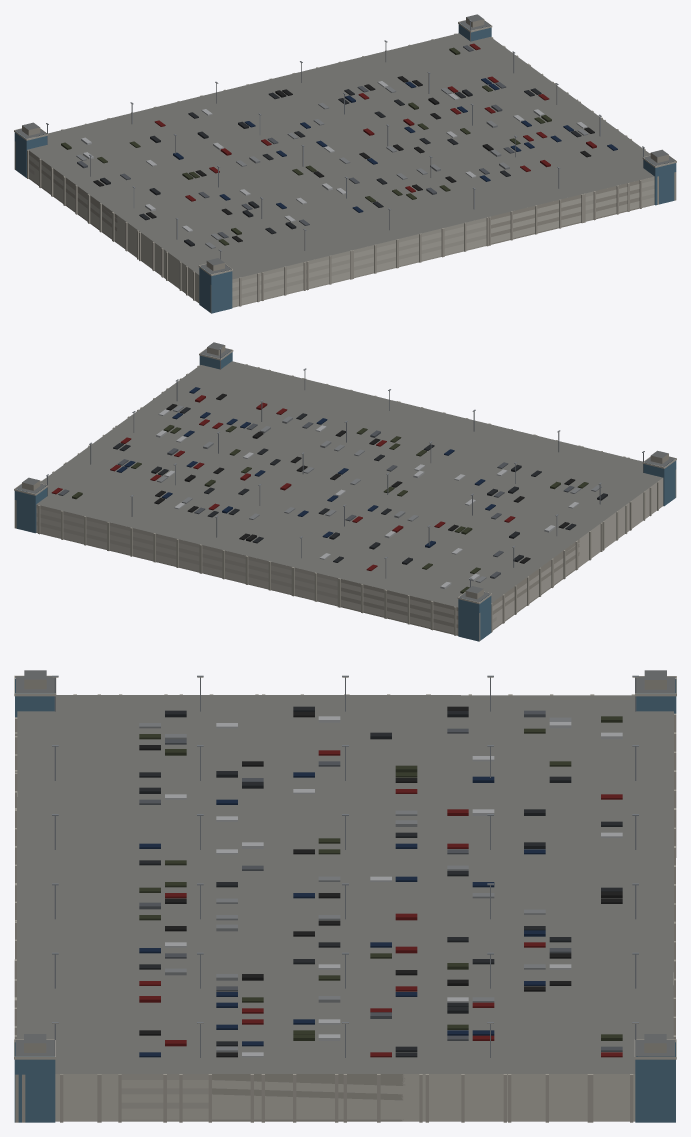
Rendered from atl-north-hourly-deck.glb.
3 renders of one model, top to bottom at view 1: azimuth 30°, elevation 25°; view 2: azimuth 150°, elevation 25°; view 3: azimuth 270°, elevation 25°, orthographic. The views are drawn at different scales.
Parts seen in each view (by area): view 1: lod2_lm_stone, lod2_bld_wall, lod0_lm_metal, lod0_lm_stone, lod1_lm_stone, lod0_bld_glass, lod0_bld_roof; view 2: lod2_lm_stone, lod2_bld_wall, lod0_lm_stone, lod0_lm_metal, lod0_bld_glass, lod1_lm_stone, lod0_bld_roof; view 3: lod2_lm_stone, lod0_lm_metal, lod2_bld_wall, lod0_lm_stone, lod0_bld_glass, lod0_bld_roof, lod1_lm_stone.
Boxes of the visible parts, left/top/right/bottom form: lod2_lm_stone: left=26, top=28, right=663, bottom=279; lod2_bld_wall: left=29, top=155, right=654, bottom=306; lod0_lm_metal: left=46, top=19, right=644, bottom=259; lod0_lm_stone: left=14, top=17, right=676, bottom=306; lod1_lm_stone: left=14, top=20, right=676, bottom=313; lod0_bld_glass: left=14, top=23, right=676, bottom=313; lod0_bld_roof: left=15, top=14, right=674, bottom=273; lod2_lm_stone: left=27, top=356, right=663, bottom=607; lod2_bld_wall: left=36, top=478, right=663, bottom=634; lod0_lm_stone: left=14, top=345, right=676, bottom=641; lod0_lm_metal: left=46, top=348, right=644, bottom=593; lod0_bld_glass: left=14, top=351, right=676, bottom=641; lod1_lm_stone: left=14, top=348, right=676, bottom=638; lod0_bld_roof: left=15, top=342, right=675, bottom=601; lod2_lm_stone: left=17, top=695, right=673, bottom=1073; lod0_lm_metal: left=52, top=675, right=638, bottom=1057; lod2_bld_wall: left=55, top=695, right=635, bottom=1121; lod0_lm_stone: left=14, top=675, right=676, bottom=1122; lod0_bld_glass: left=14, top=678, right=676, bottom=1122; lod0_bld_roof: left=15, top=670, right=675, bottom=1056; lod1_lm_stone: left=14, top=676, right=676, bottom=1122.
Size of the model in its own units: 188 by 19.04 by 138.
